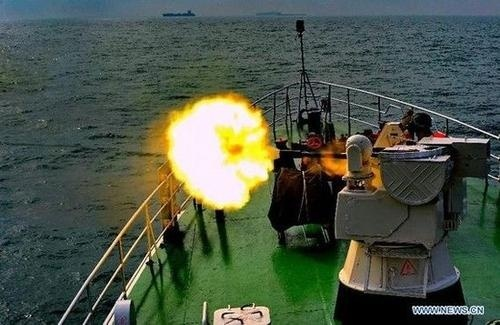fire: (160, 91, 276, 210)
